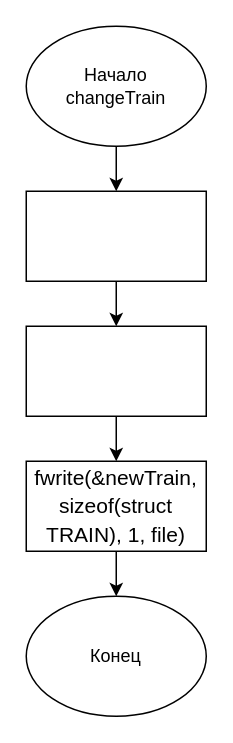
Some shapes in this 233 by 743 pixel diagram are drawn without their labels. Each missing label, with the centre of its shape:
"fseek(file, index*sizeof(struct TRAIN), 0)" goes at pixel 115 235.
"newTrain = setTrain()" goes at pixel 115 370.
